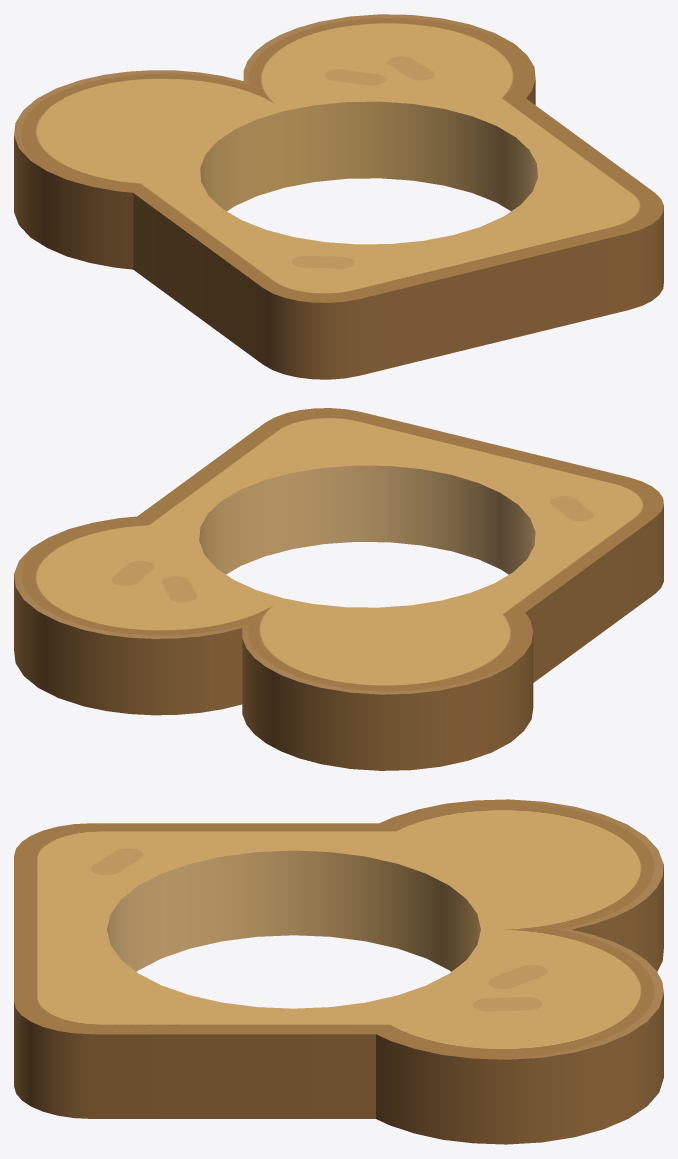
Rendered from bread.FBX.
3 views of the same model, one above another, from view 1: azimuth 30°, elevation 25°; view 2: azimuth 150°, elevation 25°; view 3: azimuth 270°, elevation 25° (orthographic). The views are drawn at different scales.
Visible parts, largest first — view 1: Bread; view 2: Bread; view 3: Bread.
Boxes of the visible parts, left/top/right/bottom form: Bread: left=14, top=14, right=663, bottom=379; Bread: left=14, top=408, right=663, bottom=770; Bread: left=14, top=799, right=663, bottom=1144.
Bounding box in the file's own units: 46.12 × 7 × 48.65.
Materials: 1 (1 with a texture image).
